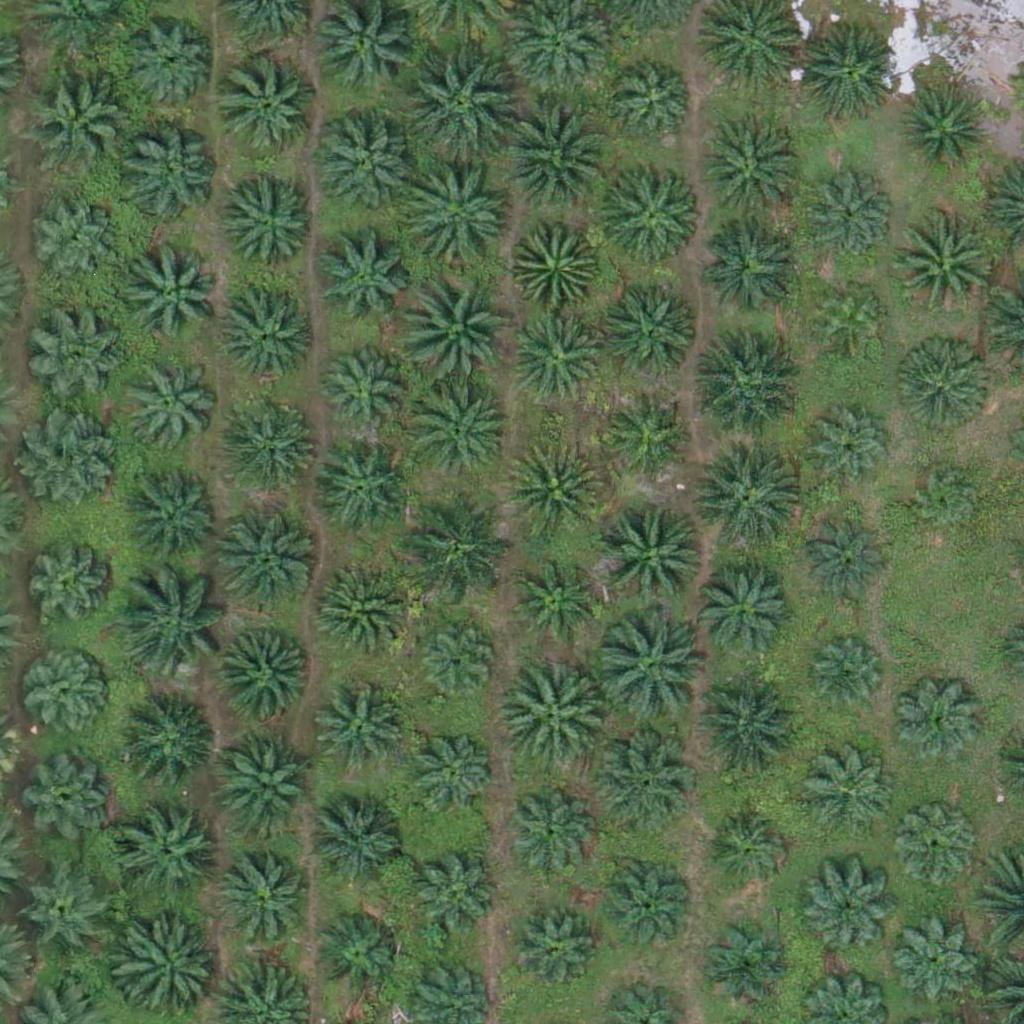Kelapa_Sawit: (685, 678, 798, 791), (594, 615, 707, 728), (120, 571, 233, 684), (405, 487, 518, 600), (405, 162, 518, 275), (404, 46, 517, 159), (600, 500, 712, 614), (494, 659, 606, 772), (404, 376, 516, 489), (399, 266, 511, 379), (497, 98, 609, 211), (686, 329, 798, 442), (687, 443, 799, 556), (694, 565, 794, 666), (591, 732, 691, 833), (308, 561, 408, 662), (310, 790, 410, 891), (120, 694, 220, 795), (116, 806, 216, 907), (116, 922, 216, 1023), (27, 65, 127, 166), (26, 303, 126, 404), (24, 407, 124, 508), (127, 242, 227, 343), (120, 357, 220, 458), (124, 466, 224, 567), (218, 509, 318, 610), (217, 285, 317, 386), (219, 56, 319, 157), (310, 229, 410, 330), (313, 441, 413, 542), (503, 440, 603, 541), (602, 284, 702, 385), (601, 160, 701, 261), (703, 124, 803, 225), (701, 215, 801, 316), (794, 22, 894, 123), (893, 215, 993, 316), (215, 628, 315, 728), (216, 733, 316, 833), (117, 124, 217, 224), (225, 396, 325, 496), (220, 172, 320, 272), (314, 111, 414, 211), (894, 334, 994, 434), (802, 872, 890, 960), (416, 618, 504, 706), (405, 725, 493, 813), (409, 853, 497, 941), (504, 903, 592, 991), (602, 858, 690, 946), (703, 804, 791, 892), (892, 805, 980, 893), (318, 686, 406, 774), (31, 197, 119, 285), (514, 310, 602, 398), (510, 561, 598, 649), (608, 385, 696, 473), (801, 518, 889, 606), (808, 400, 896, 488), (506, 786, 593, 874), (699, 917, 786, 1005), (894, 676, 981, 764), (891, 918, 978, 1006), (805, 749, 892, 837), (314, 908, 401, 996), (223, 852, 310, 940), (26, 546, 113, 634), (23, 655, 110, 743), (26, 754, 113, 842), (23, 871, 110, 959), (126, 18, 213, 106), (320, 343, 407, 431), (512, 218, 599, 306), (613, 60, 700, 148), (806, 167, 893, 255), (900, 87, 987, 175), (809, 639, 884, 715), (813, 281, 888, 356), (911, 465, 986, 540)
